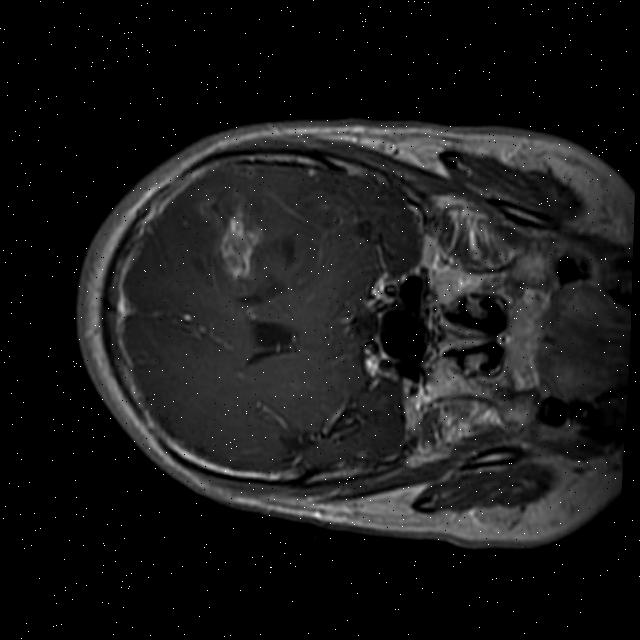Glioma: (188, 177, 302, 310)
